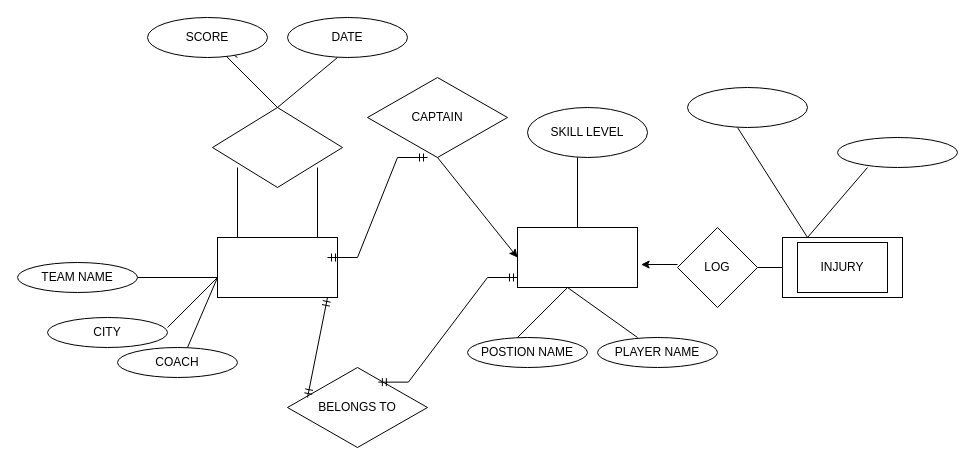
This 975x465 diagram has some shape labels left out. The centre of each missing label's shape, as x and y in pixels:
GAME: the point at 277,147
ID: the point at 747,107
INJURY TYPE: the point at 897,152
PLAYER: the point at 577,257
TEAM: the point at 277,267
